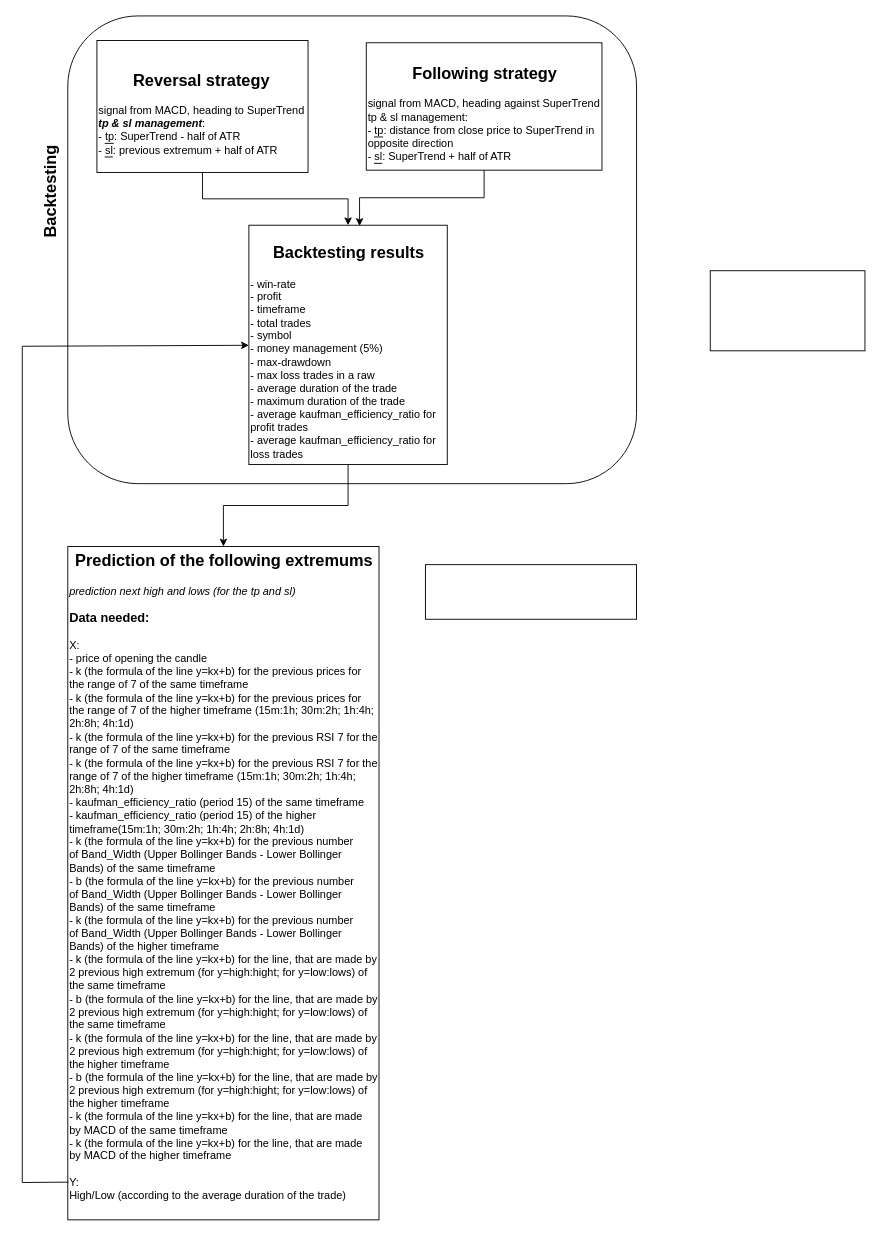
Some shapes in this 881 by 1244 pixel diagram are drawn without their labels. Here are the shapes that lost their labels. From the top down, the centre of each, then its label:
At (x=787, y=310): "Trend following??? kaufman_efficiency_ratio > 0.5".
At (x=531, y=591): "Prediction of the outcome predicts win or loss".
